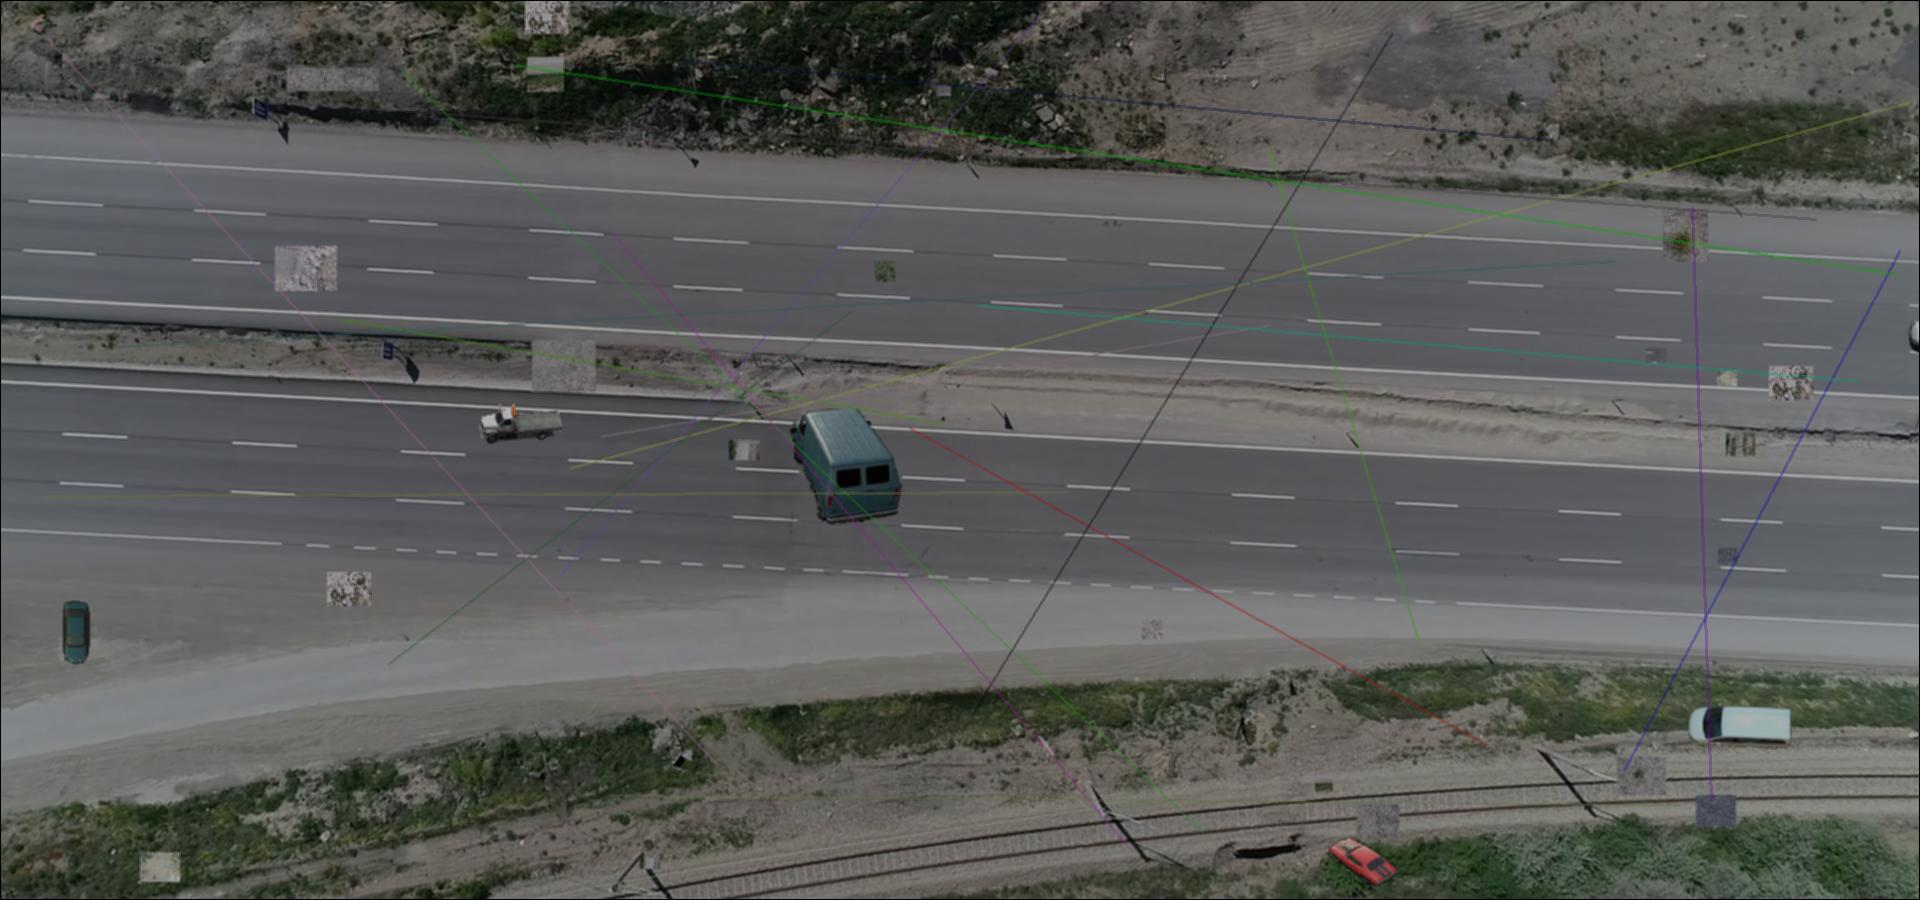arac: (790, 409, 904, 524), (1686, 703, 1796, 749), (1327, 835, 1400, 887), (479, 403, 562, 444), (62, 600, 92, 666)
